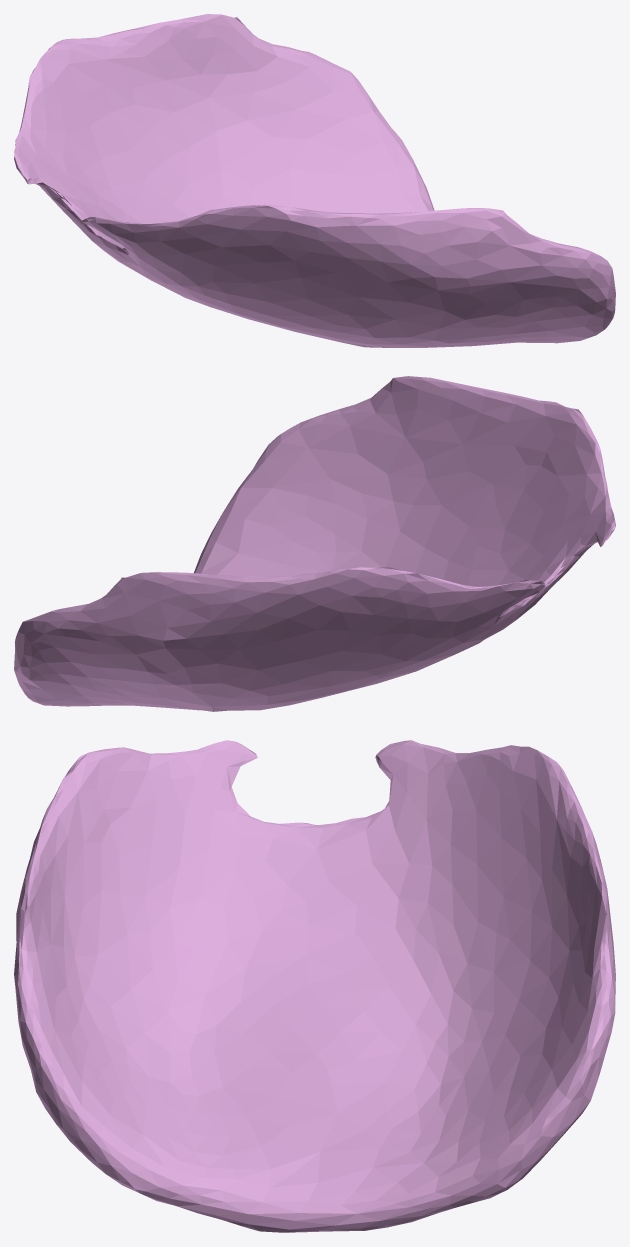
The picture shows the model from 3 angles, top to bottom: view 1: azimuth 30°, elevation 25°; view 2: azimuth 150°, elevation 25°; view 3: azimuth 270°, elevation 25°; orthographic projection. The views are drawn at different scales.
Visible parts, largest first — view 1: 42.obj; view 2: 42.obj; view 3: 42.obj.
Part boxes in pixels (x1,y1,x2,y2): 42.obj: (14,14,615,347); 42.obj: (14,376,615,711); 42.obj: (14,740,615,1232).
Size of the model in its own units: 1868 by 1063 by 1949.
